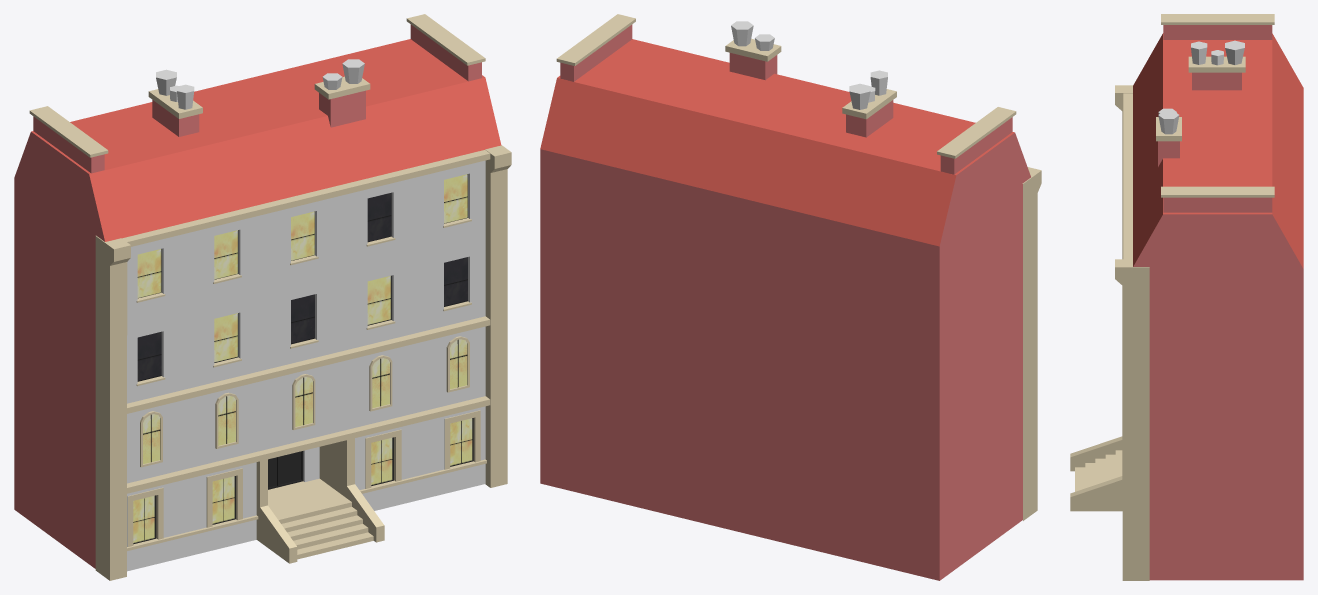
The model's file is Bloc_Place_03.fbx.
3 renders of one model, left to right at view 1: azimuth 30°, elevation 25°; view 2: azimuth 150°, elevation 25°; view 3: azimuth 270°, elevation 25°, orthographic. The views are drawn at different scales.
Visible parts, largest first — view 1: Bloc_Place_03; view 2: Bloc_Place_03; view 3: Bloc_Place_03.
Boxes of the visible parts, left/top/right/bottom form: Bloc_Place_03: left=14, top=14, right=511, bottom=580; Bloc_Place_03: left=540, top=14, right=1041, bottom=580; Bloc_Place_03: left=1070, top=14, right=1303, bottom=580.
Size of the model in its own units: 815 by 1569 by 1505.
